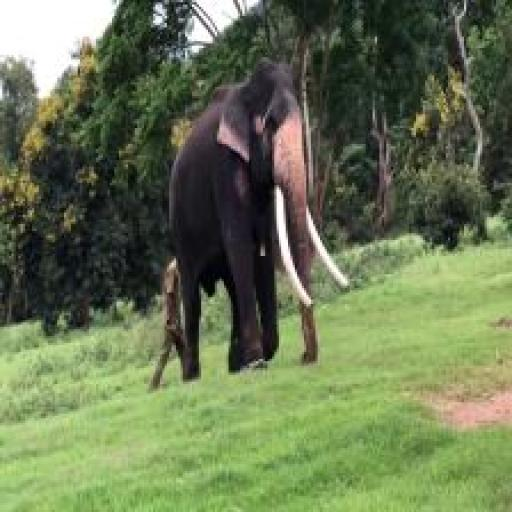Elephant: (174, 71, 351, 383)
